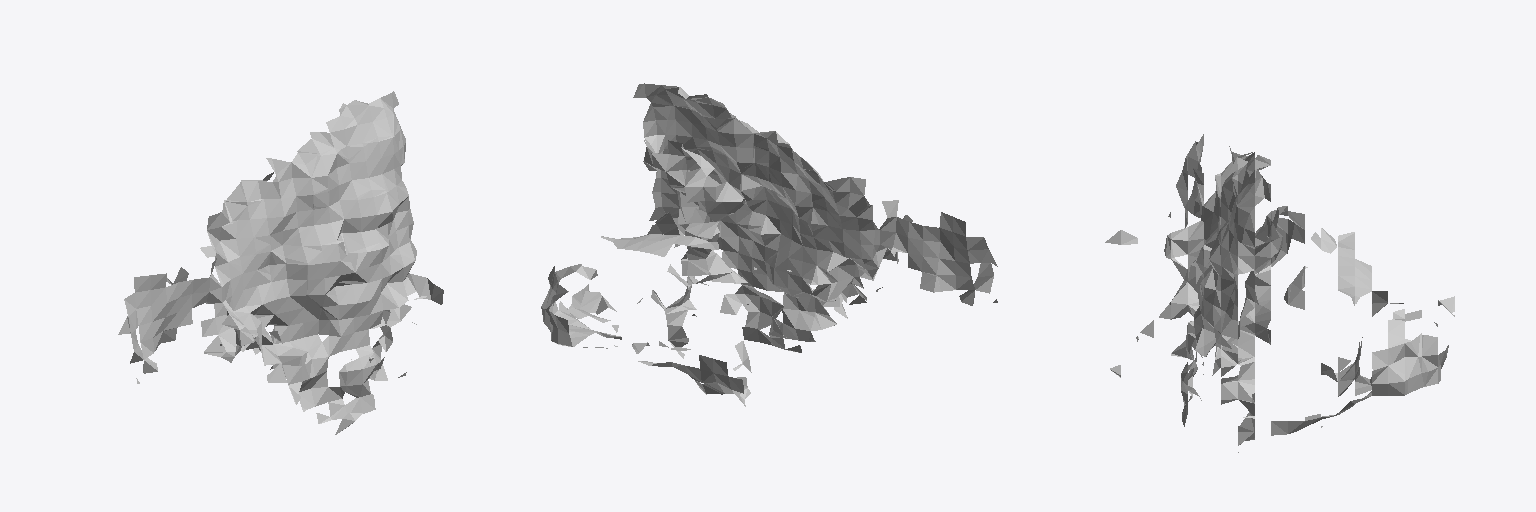
Rendered from ZEDMesh.obj.
3 views of the same model, side by side, from view 1: azimuth 30°, elevation 25°; view 2: azimuth 150°, elevation 25°; view 3: azimuth 270°, elevation 25° (orthographic).
Bounding box in the file's own units: 5.08 × 3.6 × 4.19.